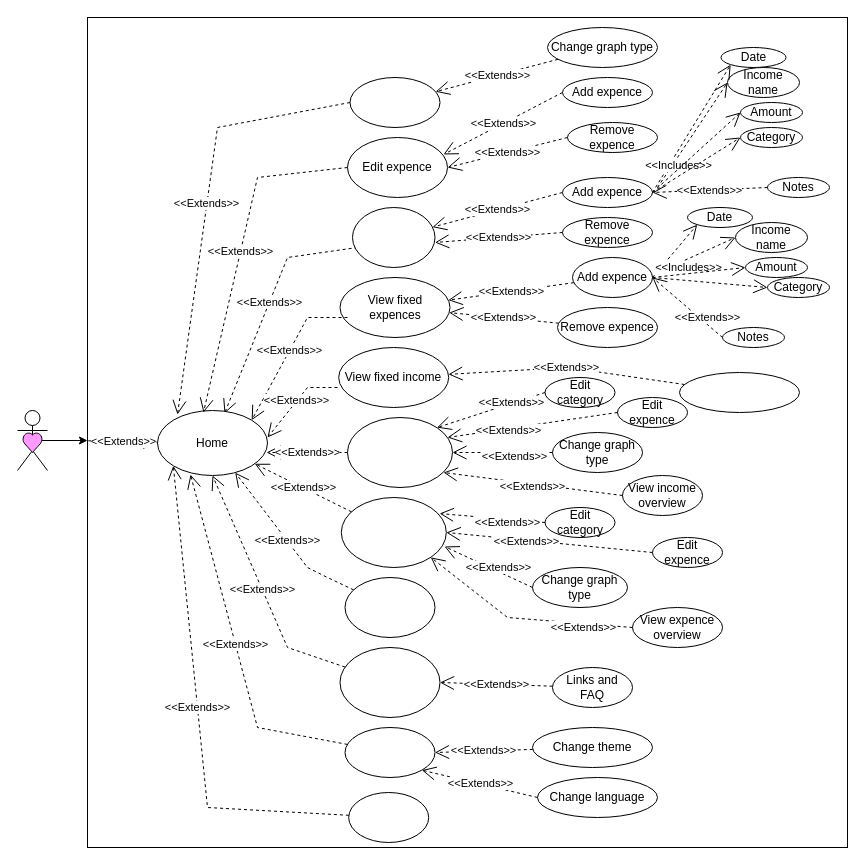
Image size: 865x865. Some labels were removed from this diagram. Each missing label, with the box of its shape:
Actor: (16, 410, 48, 470)
Budgeting: (349, 76, 440, 128)
Change month: (678, 372, 800, 412)
Edit income: (352, 206, 435, 268)
Edit timeframe: (344, 576, 435, 638)
Expence overview: (346, 416, 452, 488)
Help button: (339, 646, 440, 718)
Home button: (348, 792, 429, 842)
Income overview: (340, 496, 446, 568)
Settings: (344, 726, 435, 778)
